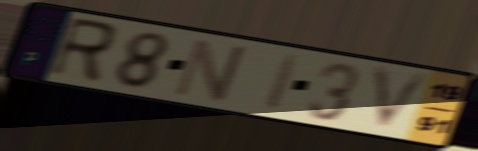3: (306, 59, 362, 124)
8: (112, 30, 172, 91)
I: (260, 51, 306, 114)
N: (169, 35, 251, 105)
R: (43, 14, 121, 86)
V: (370, 63, 436, 136)
